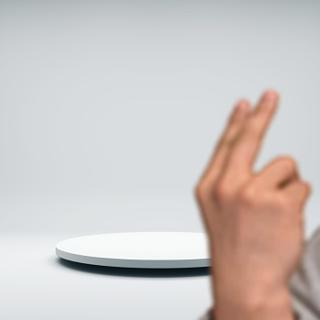DHAVE: (185, 80, 317, 289)
